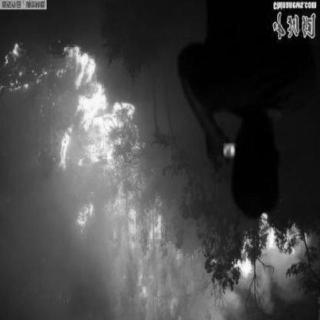Fire: (5, 42, 168, 316), (228, 218, 306, 300)
